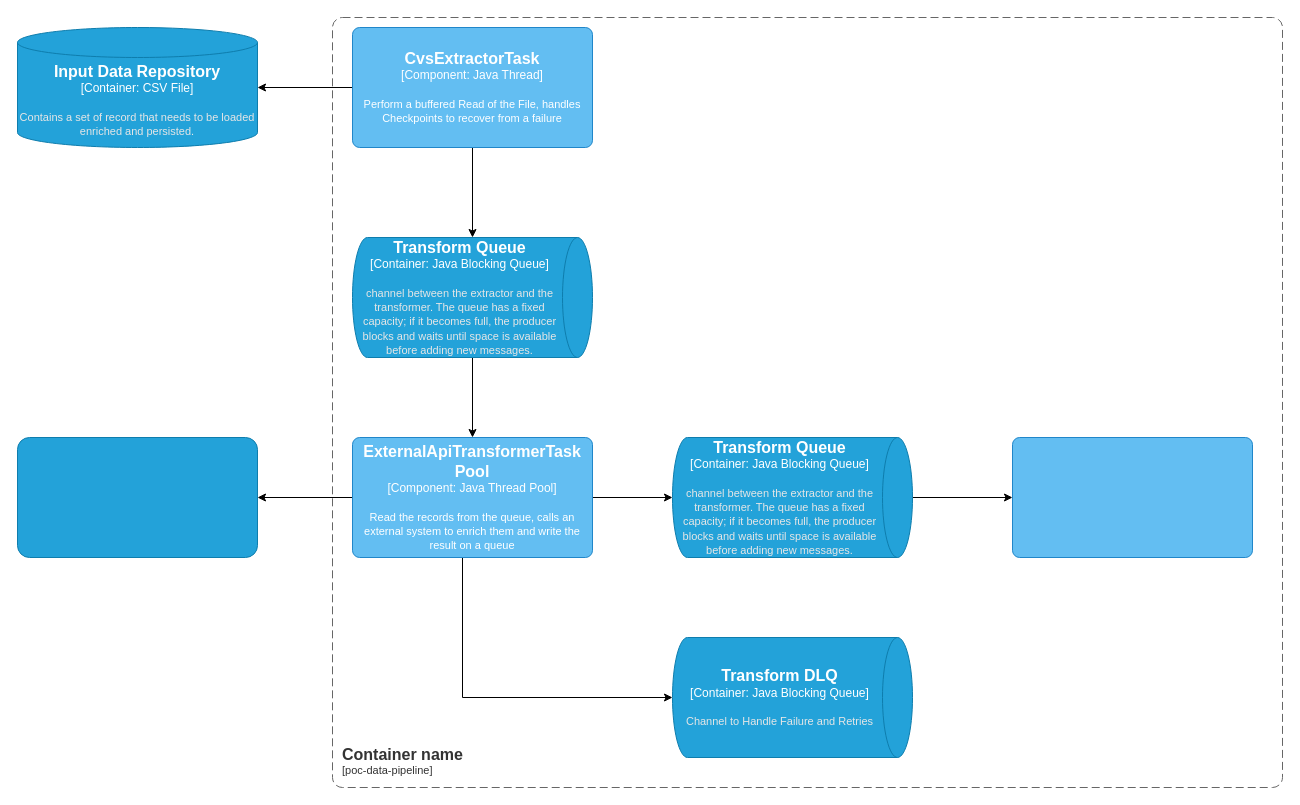
Some shapes in this 1300 by 805 pixel diagram are drawn without their labels. Each missing label, with the centre of its shape:
"External Api [Container: External Rest API] External Rest API" belongs at pixel 137 497.
"OutputFileLoaderTask [Component: Java Thread] Writes the Output on a File" belongs at pixel 1132 497.
